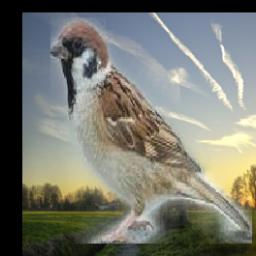Sparrow: (50, 18, 252, 244)
